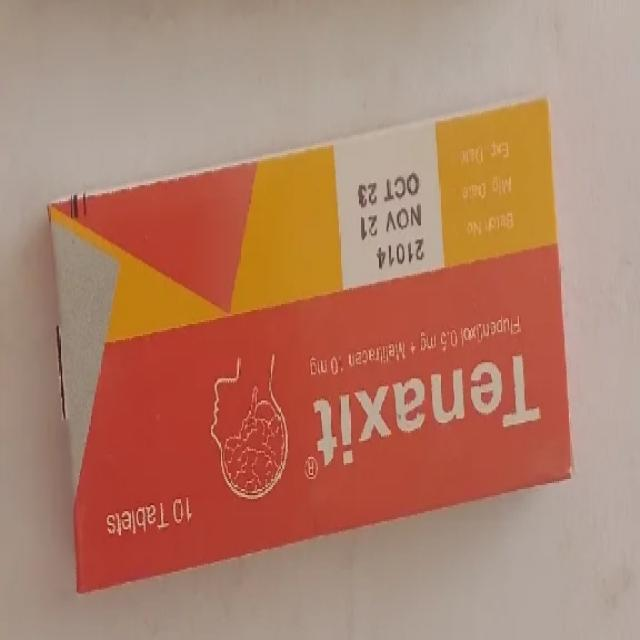drug-name: (308, 346, 547, 471)
